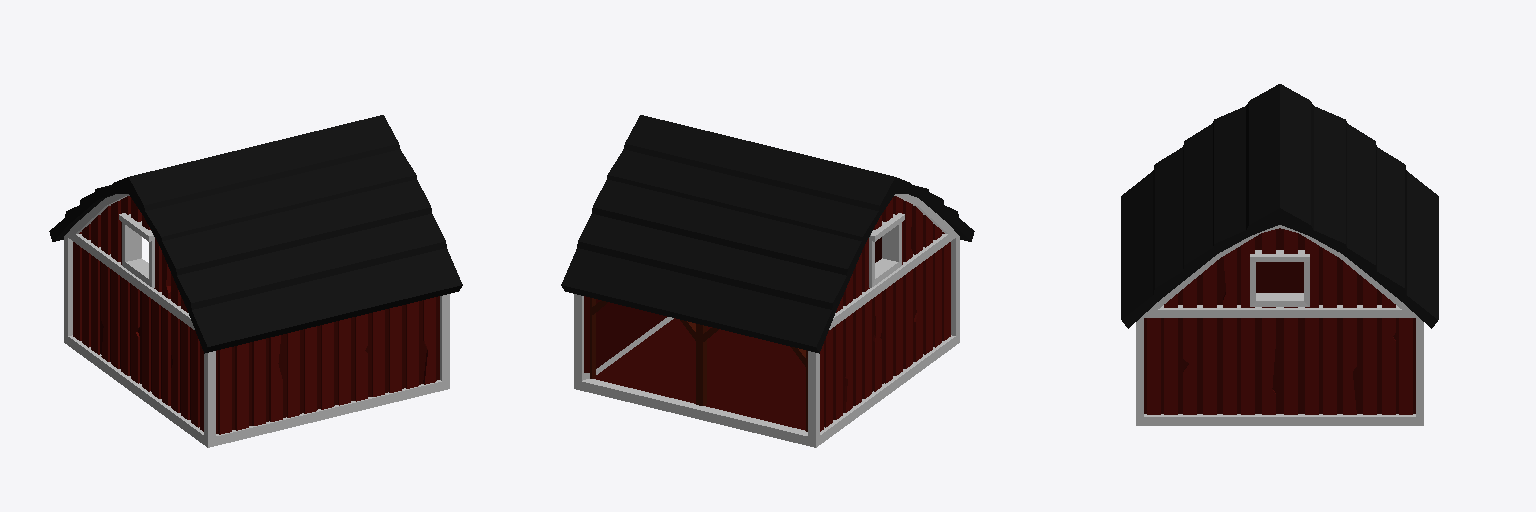
File: OpenBarn.obj
The picture shows the model from 3 angles: view 1: azimuth 30°, elevation 25°; view 2: azimuth 150°, elevation 25°; view 3: azimuth 270°, elevation 25°; orthographic projection.
Parts seen in each view (by area): view 1: OpenBarn; view 2: OpenBarn; view 3: OpenBarn.
Part boxes in pixels (left/top/right/bottom): OpenBarn: left=49, top=115, right=462, bottom=447; OpenBarn: left=561, top=115, right=974, bottom=447; OpenBarn: left=1121, top=84, right=1438, bottom=425.
Size of the model in its own units: 5.74 by 4.74 by 6.18.